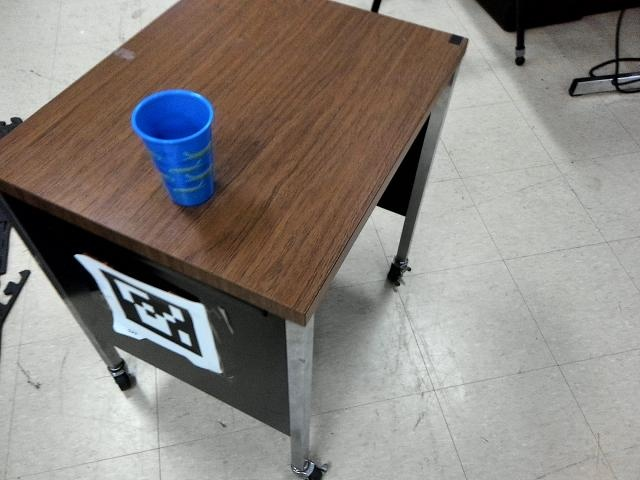water_cup: (129, 86, 236, 218)
